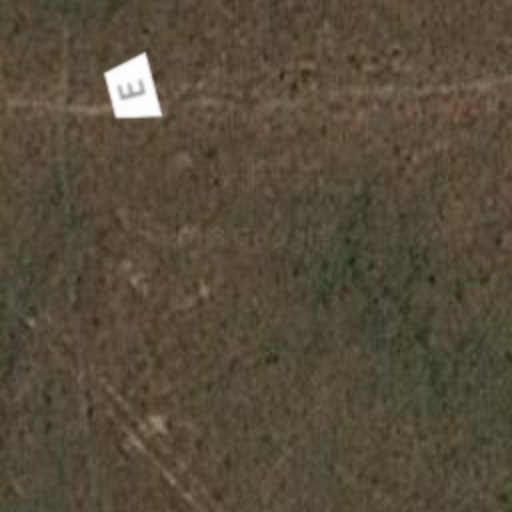trapezoid: (90, 48, 174, 132)
